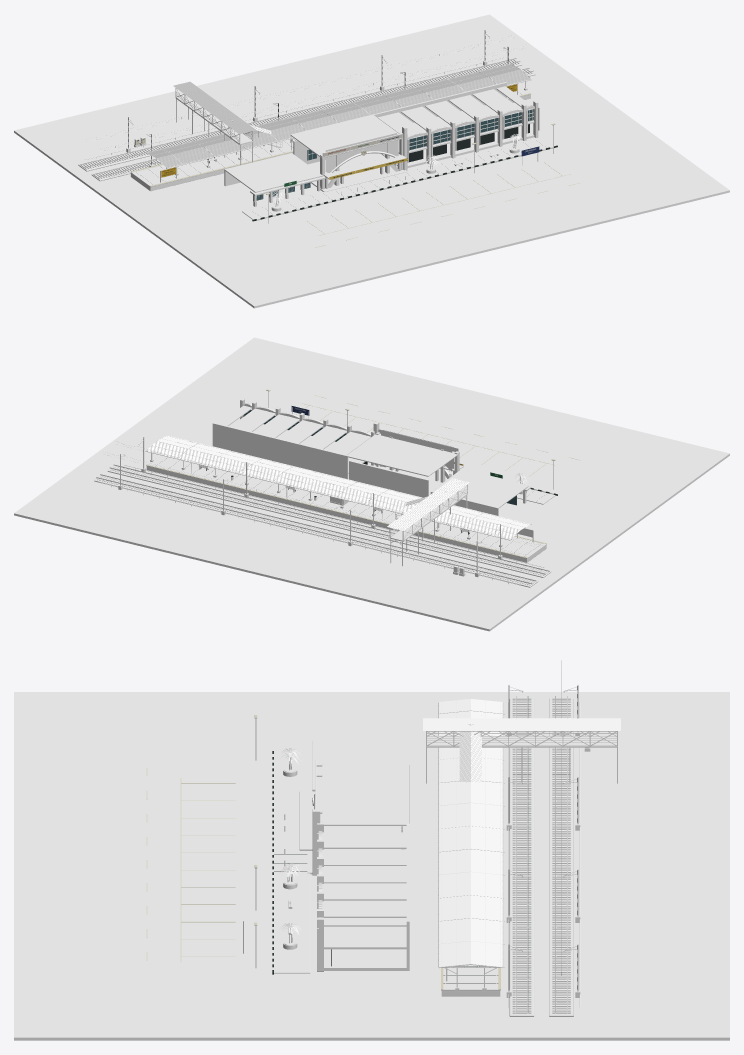
The model's file is ERS_2017_station.glb.
The picture shows the model from 3 angles, top to bottom: view 1: azimuth 30°, elevation 25°; view 2: azimuth 150°, elevation 25°; view 3: azimuth 270°, elevation 25°; orthographic projection. The views are drawn at different scales.
Parts seen in each view (by area): view 1: Presentation ground, Platform corrugated roof -1, Paved footway, Platform corrugated roof 1, Entry roof slab, Platform coping, Left wing roof, Ballast bed.001, Footbridge corrugated roof, Entry foundation, Right wing main floor, Right wing rear wall (+9 smaller); view 2: Presentation ground, Platform coping, Platform corrugated roof 1, Right wing rear wall, Platform corrugated roof -1, Ballast bed, Ballast bed.001, Entry roof slab, Left wing roof, Platform retaining wall, Entry rear wall, Footbridge corrugated roof (+10 smaller); view 3: Presentation ground, Platform corrugated roof -1, Platform corrugated roof 1, Paved footway, Entry roof slab, Ballast bed, Ballast bed.001, Footbridge corrugated roof, Left wing roof, Right wing first floor, Footbridge walkway, Right wing main floor (+10 smaller).
Part boxes in pixels (<box>): Presentation ground: <box>14,14,729,308</box>; Platform corrugated roof -1: <box>157,70,531,167</box>; Paved footway: <box>242,138,555,219</box>; Platform corrugated roof 1: <box>146,64,520,158</box>; Entry roof slab: <box>290,114,403,158</box>; Platform coping: <box>131,84,530,187</box>; Left wing roof: <box>224,153,322,192</box>; Ballast bed.001: <box>78,58,522,171</box>; Footbridge corrugated roof: <box>173,81,255,134</box>; Entry foundation: <box>308,153,407,191</box>; Right wing main floor: <box>381,126,534,167</box>; Right wing rear wall: <box>373,82,506,122</box>; Presentation ground: <box>14,337,729,631</box>; Platform coping: <box>146,455,546,558</box>; Platform corrugated roof 1: <box>146,441,520,539</box>; Right wing rear wall: <box>212,423,348,479</box>; Platform corrugated roof -1: <box>157,435,530,529</box>; Ballast bed: <box>107,465,551,577</box>; Ballast bed.001: <box>94,474,538,587</box>; Entry roof slab: <box>346,433,459,476</box>; Left wing roof: <box>430,469,528,508</box>; Platform retaining wall: <box>146,466,546,562</box>; Entry rear wall: <box>349,460,428,497</box>; Footbridge corrugated roof: <box>387,478,469,530</box>; Presentation ground: <box>14,692,729,1040</box>; Platform corrugated roof -1: <box>438,699,470,967</box>; Platform corrugated roof 1: <box>470,699,502,966</box>; Paved footway: <box>274,753,310,973</box>; Entry roof slab: <box>316,764,409,825</box>; Ballast bed: <box>509,698,534,1016</box>; Ballast bed.001: <box>549,698,573,1016</box>; Footbridge corrugated roof: <box>423,718,620,730</box>; Left wing roof: <box>312,740,404,791</box>; Right wing first floor: <box>324,866,409,949</box>; Footbridge walkway: <box>426,736,617,747</box>; Right wing main floor: <box>324,949,409,970</box>.
Size of the model in its own units: 120 by 10.97 by 105.
31 materials, 13 textured.
